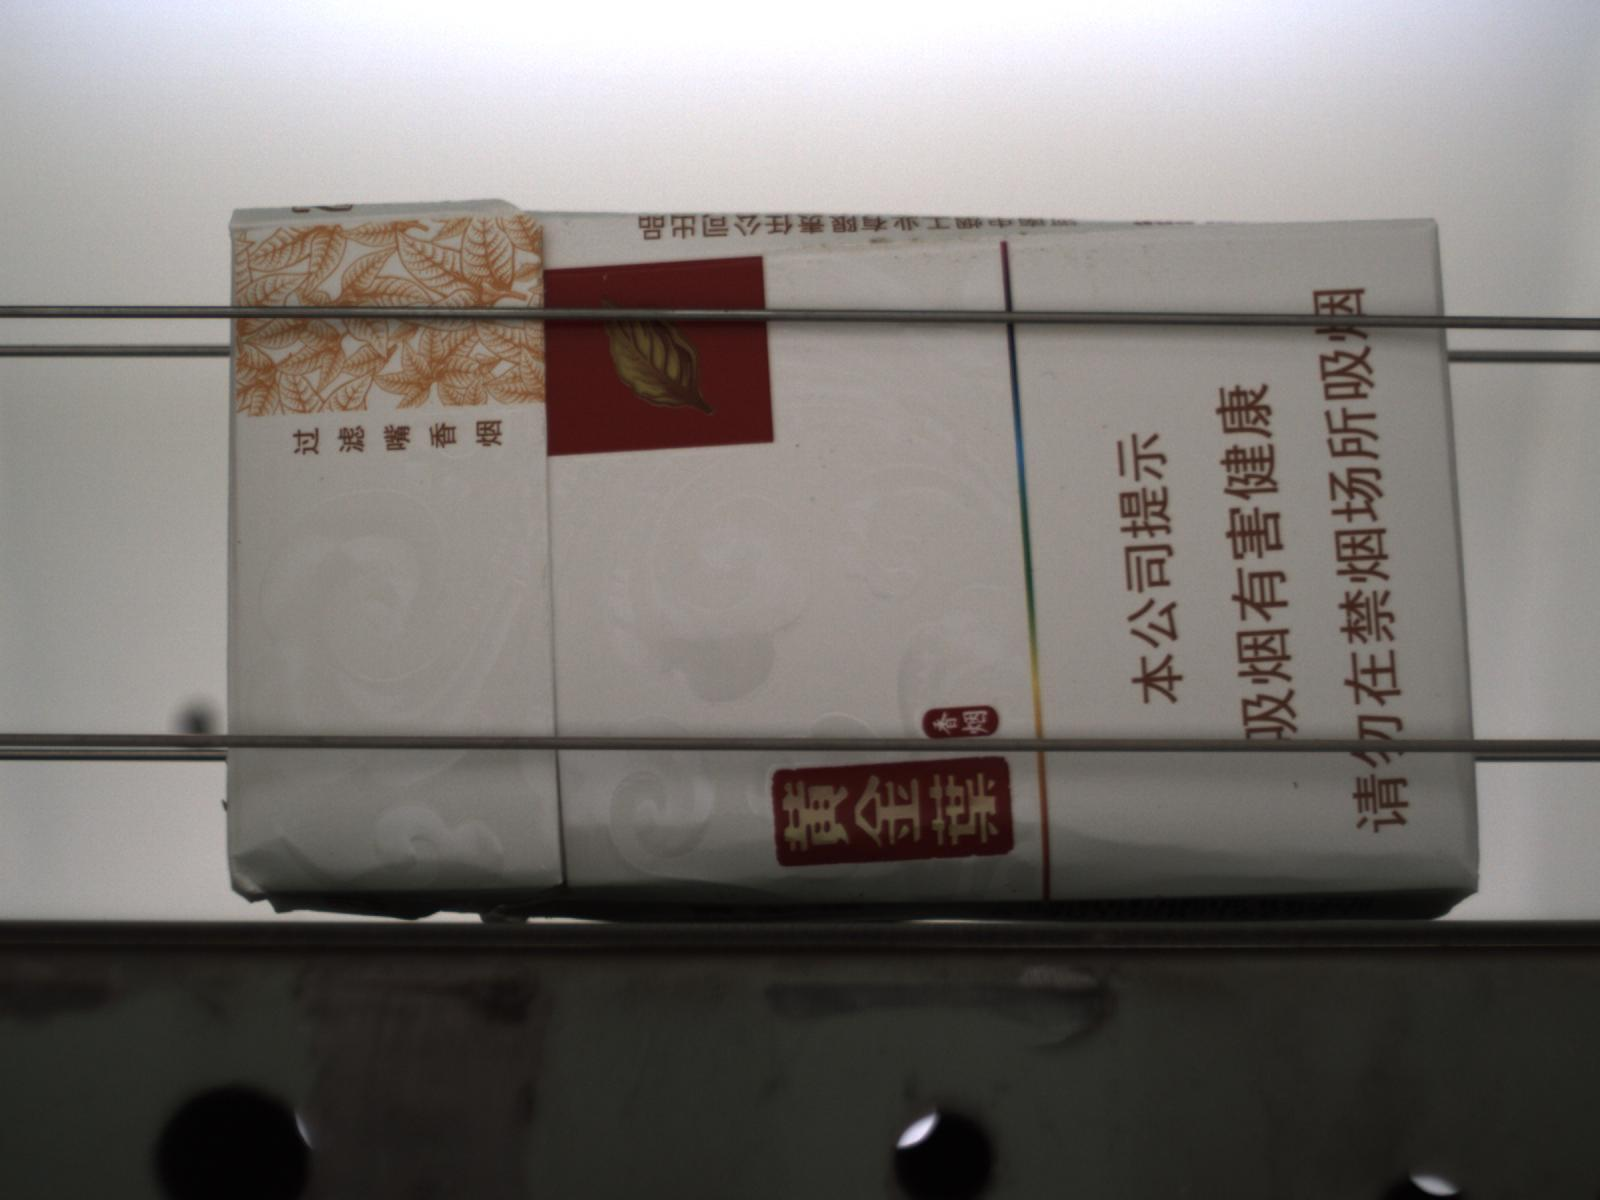boxDamage_slight: (494, 846, 1481, 922)
dirtySpot: (1289, 779, 1302, 793), (1057, 484, 1068, 494), (807, 494, 817, 504), (793, 442, 803, 451), (1101, 422, 1110, 431)
headUpwarp_upper_01: (227, 194, 521, 226)
lower_upwarp: (232, 869, 561, 925)
skewed_upper_0: (522, 208, 1239, 276)
